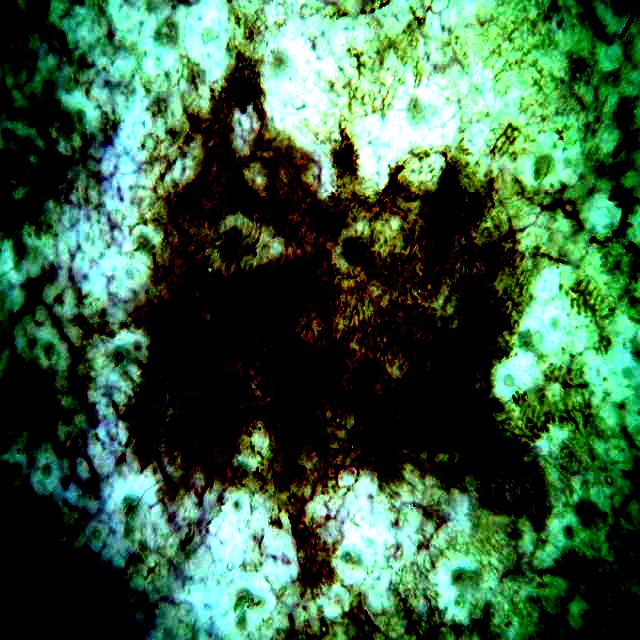MEL: (139, 60, 546, 516)
